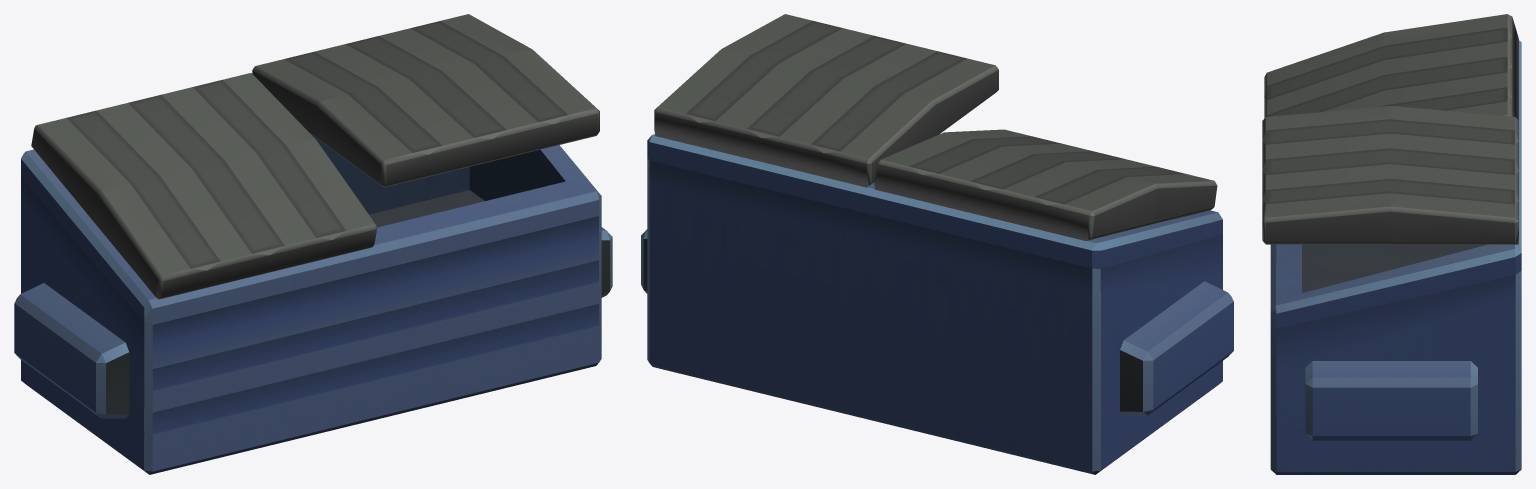
File: dumpster.fbx
3 views of the same model, side by side, from view 1: azimuth 30°, elevation 25°; view 2: azimuth 150°, elevation 25°; view 3: azimuth 270°, elevation 25° (orthographic). The views are drawn at different scales.
Parts seen in each view (by area): view 1: dumpster, dumpster_lid_left, dumpster_lid_right; view 2: dumpster, dumpster_lid_right, dumpster_lid_left; view 3: dumpster, dumpster_lid_right, dumpster_lid_left.
Boxes of the visible parts, left/top/right/bottom form: dumpster: left=14, top=135, right=612, bottom=474; dumpster_lid_left: left=31, top=73, right=377, bottom=299; dumpster_lid_right: left=252, top=14, right=599, bottom=187; dumpster: left=641, top=134, right=1233, bottom=474; dumpster_lid_right: left=654, top=14, right=998, bottom=187; dumpster_lid_left: left=874, top=129, right=1217, bottom=241; dumpster: left=1270, top=40, right=1521, bottom=474; dumpster_lid_right: left=1262, top=106, right=1518, bottom=244; dumpster_lid_left: left=1264, top=14, right=1518, bottom=119.
Bounding box in the file's own units: 350 × 178 × 157.
